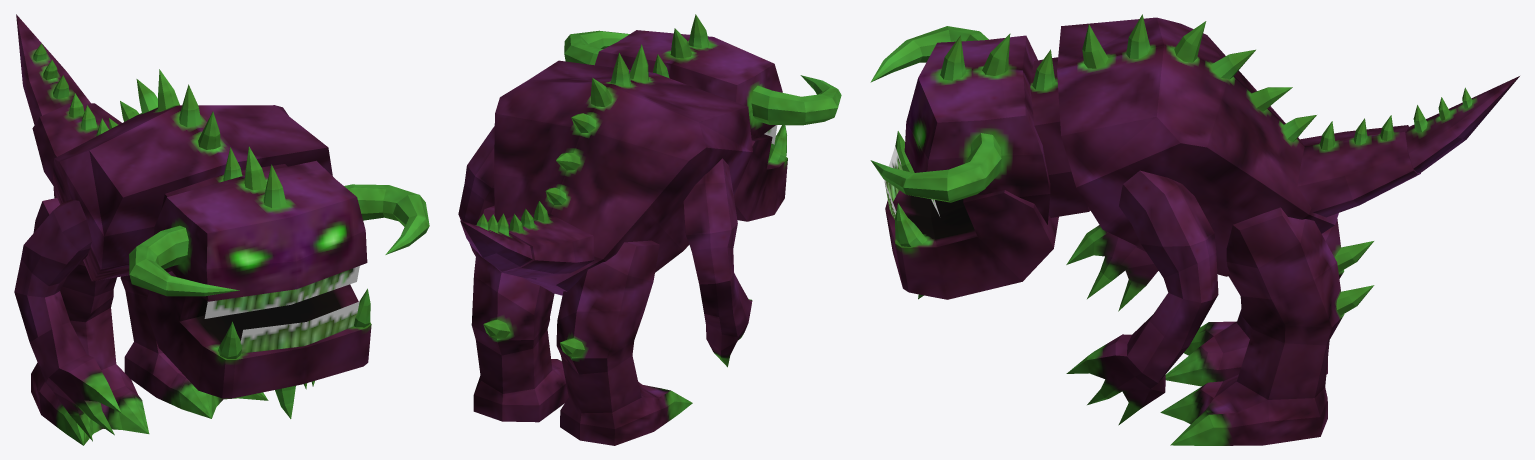
Rendered from pinky_moloch.obj.
The picture shows the model from 3 angles, left to right: view 1: azimuth 30°, elevation 25°; view 2: azimuth 150°, elevation 25°; view 3: azimuth 270°, elevation 25°; orthographic projection. The views are drawn at different scales.
Visible parts, largest first — view 1: Head, Body, Mouth, ArmRight, LegRight, LegLeft, Tail02, Tail01, Neck; view 2: Body, LegRight, Head, LegLeft, ArmRight, Tail01, Mouth, Tail02, ArmLeft; view 3: Body, LegLeft, Head, ArmLeft, Mouth, Tail01, LegRight, Neck, Tail02, ArmRight.
Part boxes in pixels (<box>): Head: <box>129,146,429,318</box>; Body: <box>53,69,332,281</box>; Mouth: <box>144,271,371,418</box>; ArmRight: <box>14,199,121,441</box>; LegRight: <box>31,198,149,445</box>; LegLeft: <box>120,275,268,418</box>; Tail02: <box>16,14,90,124</box>; Tail01: <box>32,93,121,185</box>; Neck: <box>161,147,287,210</box>; Body: <box>494,44,752,295</box>; LegRight: <box>556,240,692,445</box>; Head: <box>564,14,841,144</box>; LegLeft: <box>471,205,568,422</box>; ArmRight: <box>683,158,752,367</box>; Tail01: <box>495,201,594,278</box>; Mouth: <box>734,125,787,221</box>; Tail02: <box>460,213,532,271</box>; ArmLeft: <box>458,126,494,256</box>; Body: <box>1057,14,1338,276</box>; LegLeft: <box>1160,207,1374,445</box>; Head: <box>870,26,1050,224</box>; ArmLeft: <box>1066,170,1218,425</box>; Mouth: <box>884,131,1058,299</box>; Tail01: <box>1297,115,1420,217</box>; LegRight: <box>1165,219,1373,386</box>; Neck: <box>1030,49,1090,217</box>; Tail02: <box>1405,76,1519,172</box>; ArmRight: <box>1066,225,1158,311</box>.
Bounding box in the file's own units: 2.15 × 2.41 × 3.72.
